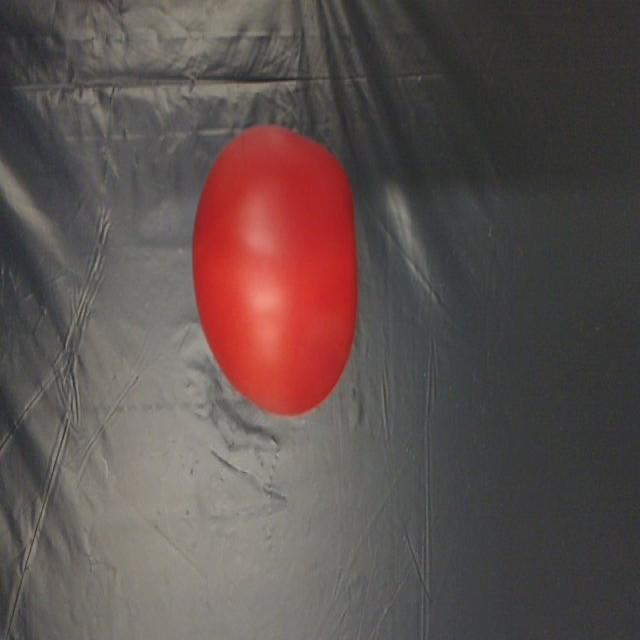kirmizi: (186, 126, 373, 424)
